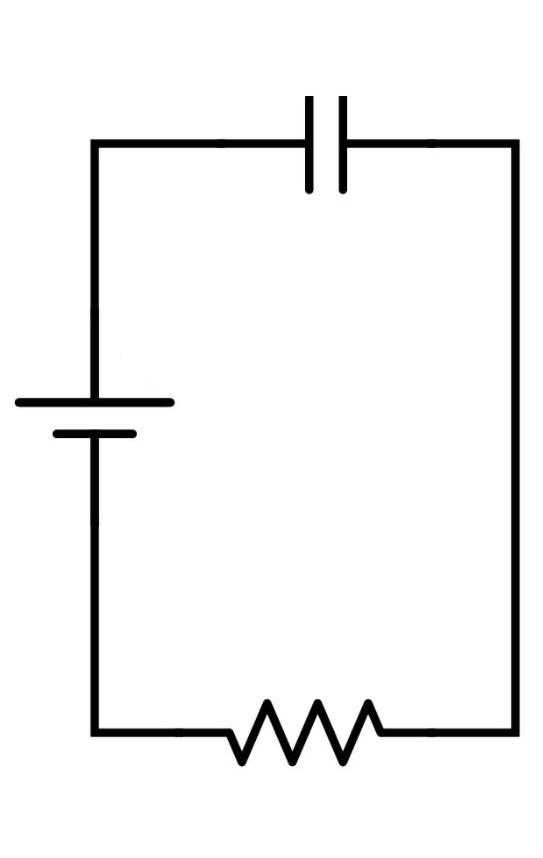resistor: (182, 671, 412, 801)
